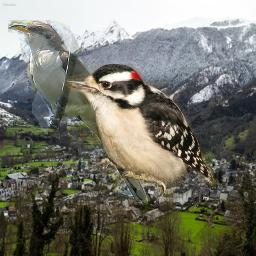Cuckoo: (8, 20, 148, 205)
Woodpecker: (62, 64, 216, 199)
